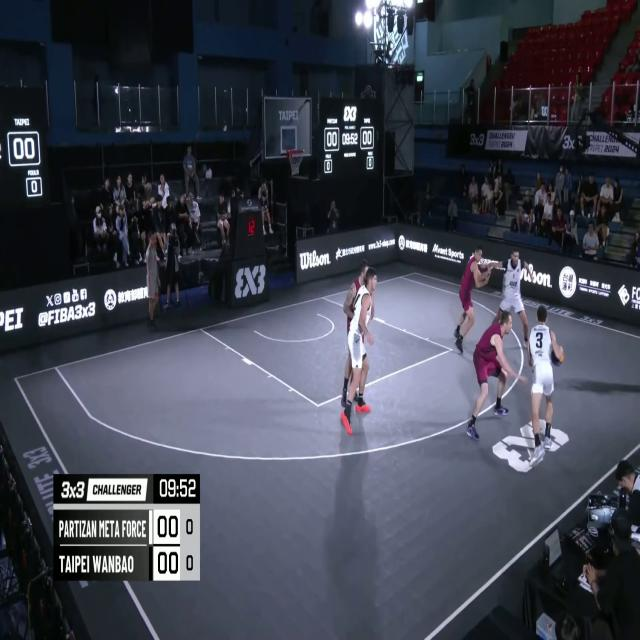ball: (550, 340, 565, 372)
hoop: (286, 146, 305, 178)
player: (468, 309, 528, 445), (527, 303, 564, 468), (338, 257, 376, 410), (342, 268, 374, 437), (455, 247, 502, 353), (490, 249, 531, 350)
